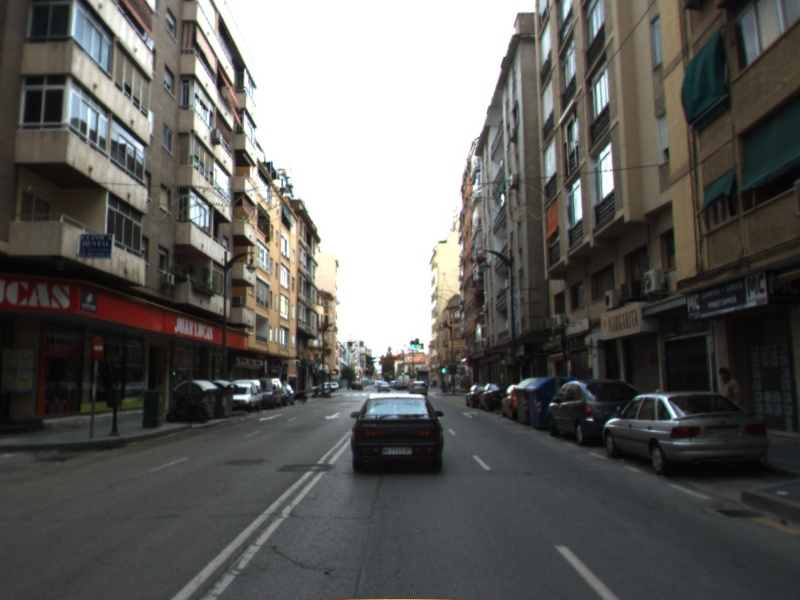RIGHT: (461, 410, 479, 419)
